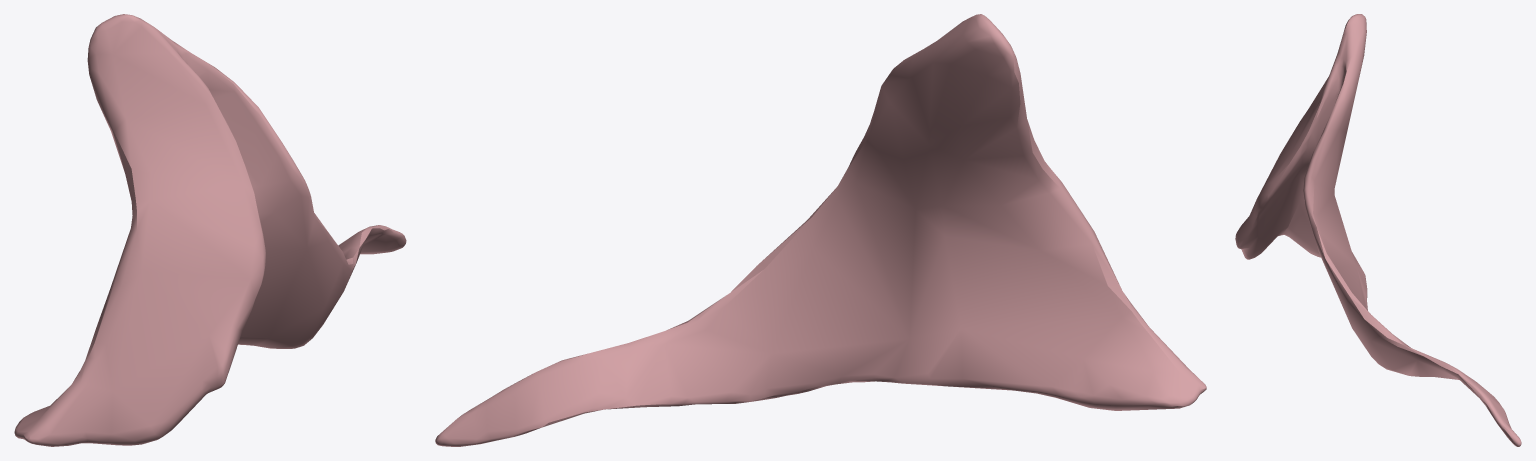
Rendered from fma16549_fj4649.glb.
The picture shows the model from 3 angles, left to right: view 1: azimuth 30°, elevation 25°; view 2: azimuth 150°, elevation 25°; view 3: azimuth 270°, elevation 25°; orthographic projection. The views are drawn at different scales.
Visible parts, largest first — view 1: FMA16549_FJ4649; view 2: FMA16549_FJ4649; view 3: FMA16549_FJ4649.
Boxes of the visible parts, left/top/right/bottom form: FMA16549_FJ4649: left=14, top=14, right=406, bottom=446; FMA16549_FJ4649: left=435, top=14, right=1206, bottom=446; FMA16549_FJ4649: left=1235, top=14, right=1521, bottom=446.
Bounding box in the file's own units: 0.0633 × 0.0454 × 0.0399.
